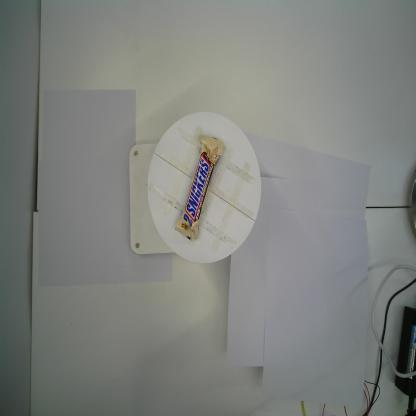Chocolate: (175, 134, 223, 242)
